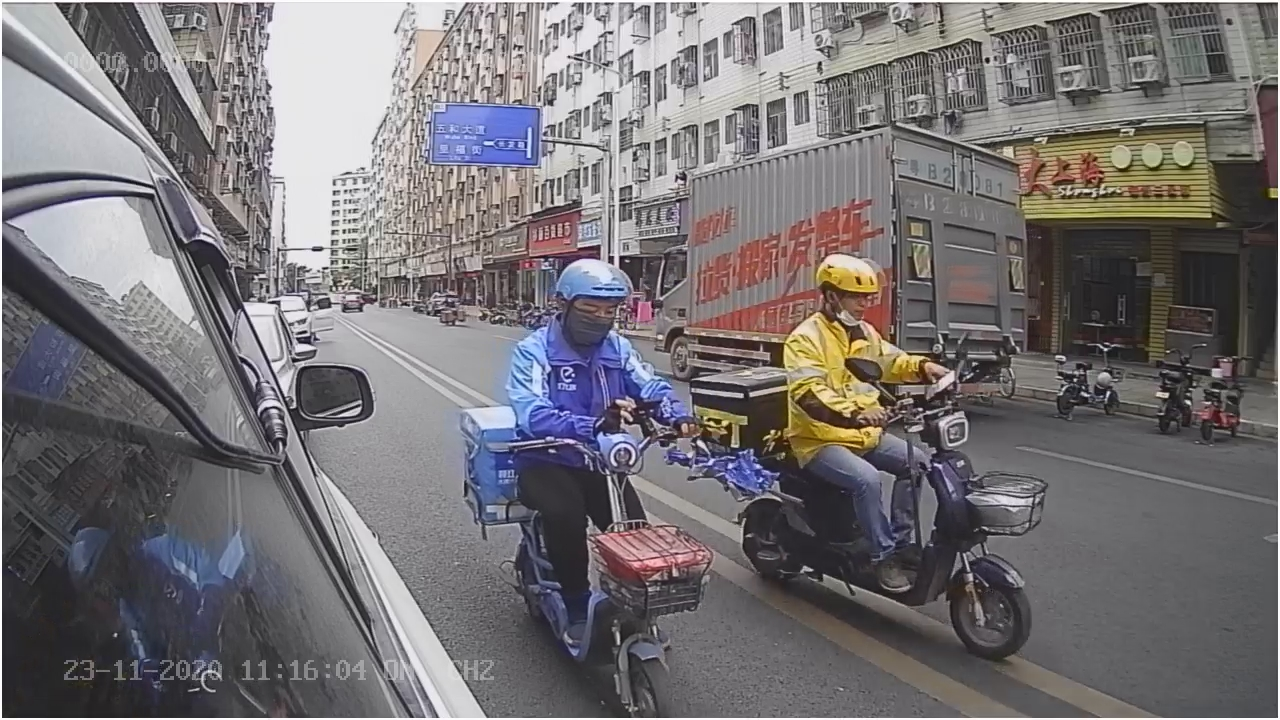person: (507, 251, 686, 402), (776, 249, 957, 386)
